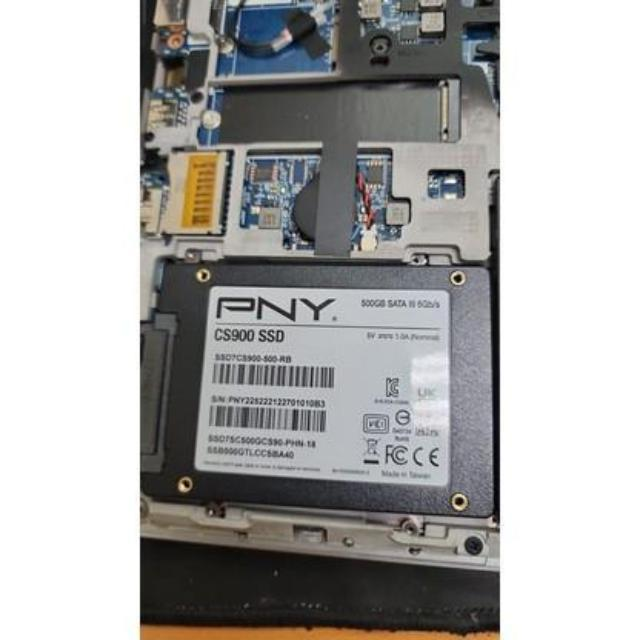DISK: (145, 260, 500, 531)
